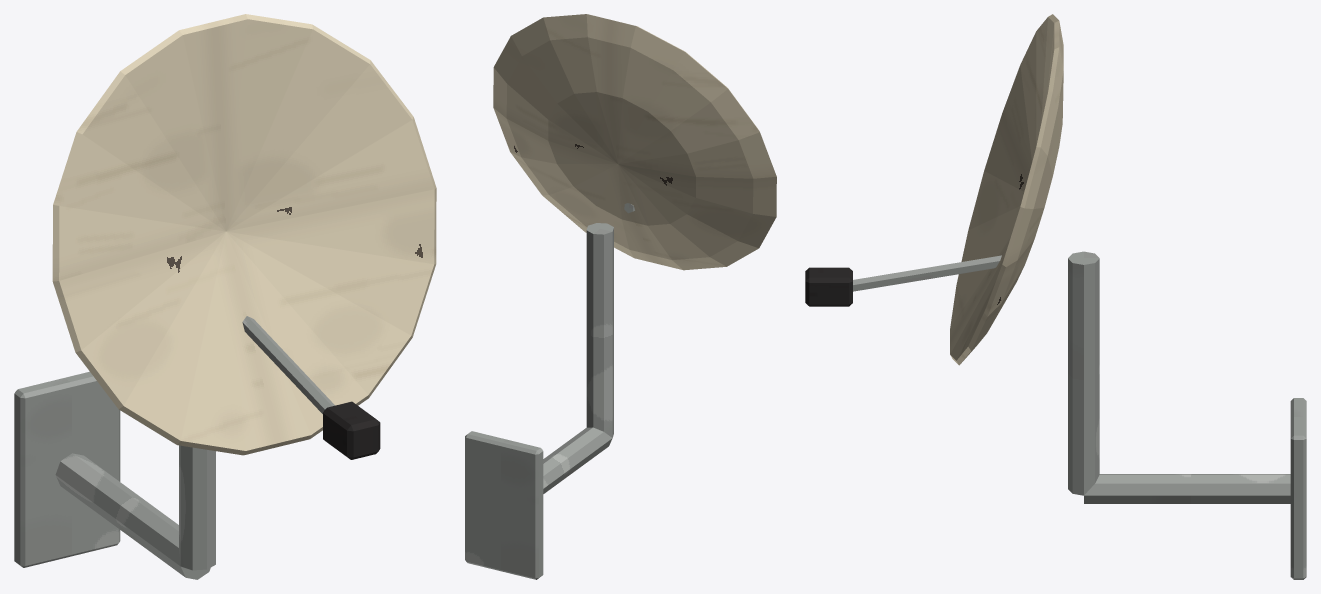
The model's file is sat_dish.glb.
3 views of the same model, side by side, from view 1: azimuth 30°, elevation 25°; view 2: azimuth 150°, elevation 25°; view 3: azimuth 270°, elevation 25° (orthographic). The views are drawn at different scales.
Parts seen in each view (by area): view 1: p; view 2: p; view 3: p.
Boxes of the visible parts, bbox=[...] form: p: bbox=[14, 14, 436, 579]; p: bbox=[465, 14, 776, 579]; p: bbox=[805, 14, 1306, 579].
Size of the model in its own units: 0.46 by 0.7312 by 0.63.
Materials: 3 (3 with a texture image).
